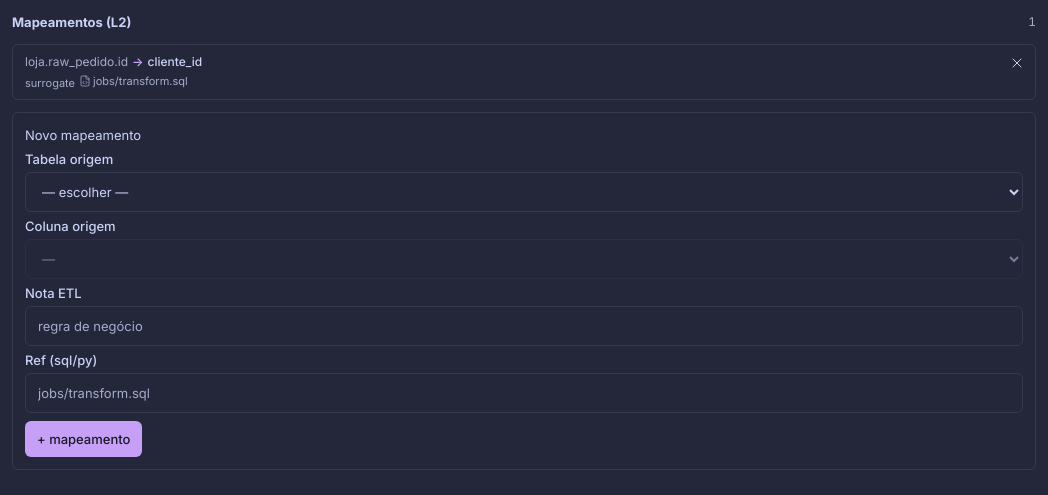
Test: ColumnMappings › loads an existing L2 mapping into the edit form
Click the button "loja.raw_pedido.id→cliente_id surrogate jobs/transform.sql": (70, 62) x1=17 y1=49 x2=999 y2=95
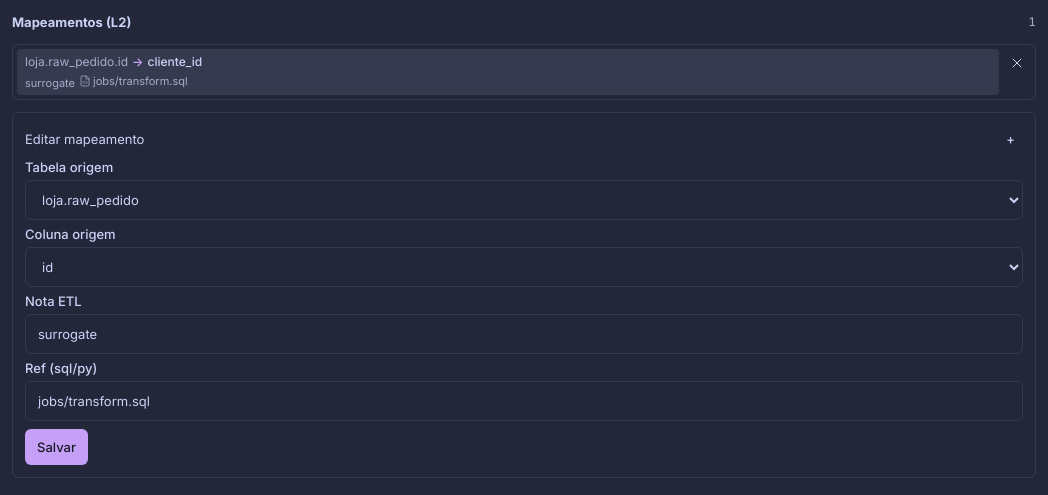
expect the dropdown labelled "Tabela origem" shows "loja.raw_pedido": met, box x1=25 y1=180 x2=1023 y2=220
expect the dropdown labelled "Coluna origem" shows "id": met, box x1=25 y1=247 x2=1023 y2=287
expect the field labelled "Nota ETL" holds "surrogate": met, box x1=25 y1=314 x2=1023 y2=354
